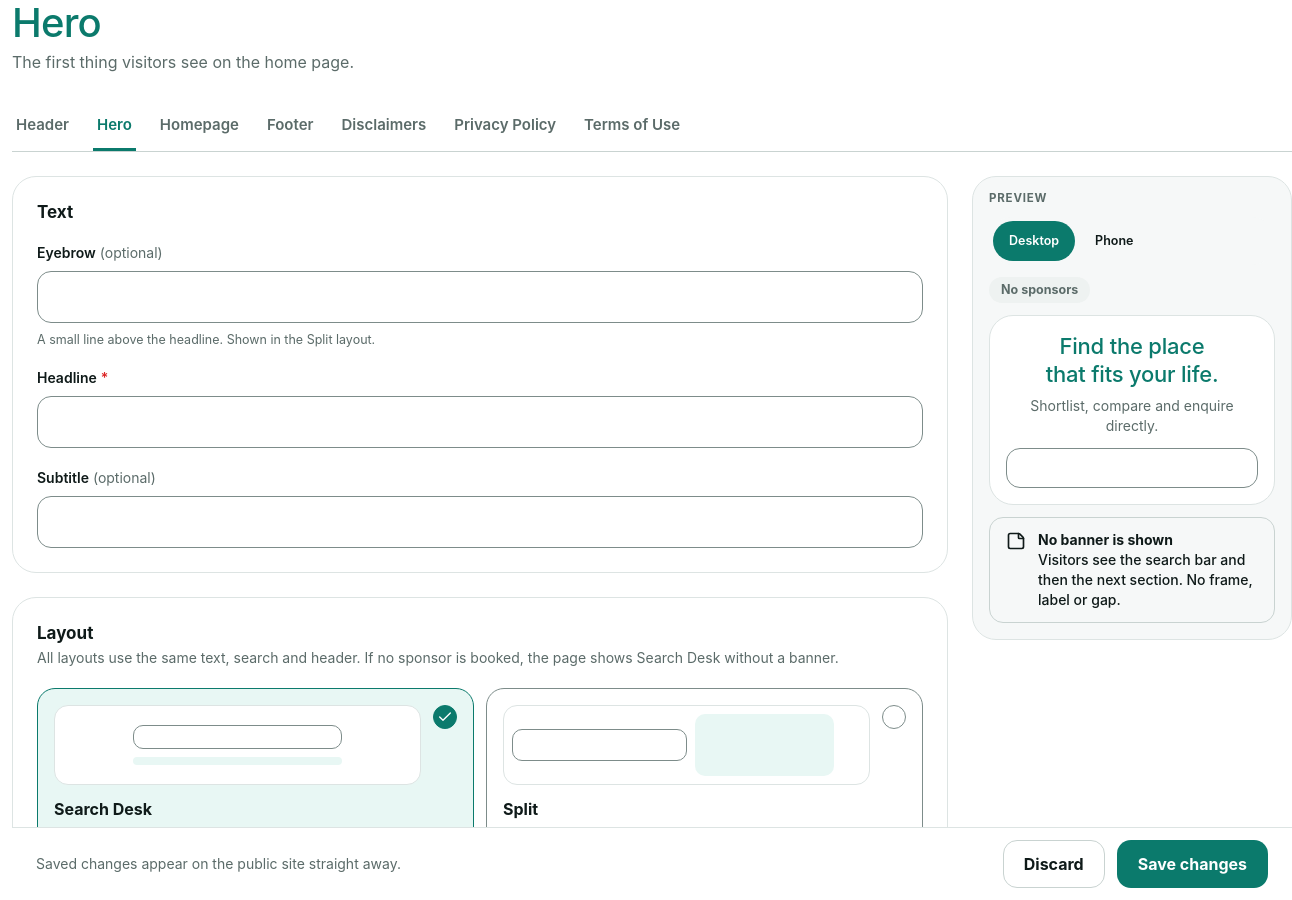
Test: UT-hero-page: the Hero page (S7-T10) › marks a missing headline on its box and says so in the alert
Click the button "Save changes" at coordinates (1192, 864), box [1117,840,1268,888]
(page scrolled)
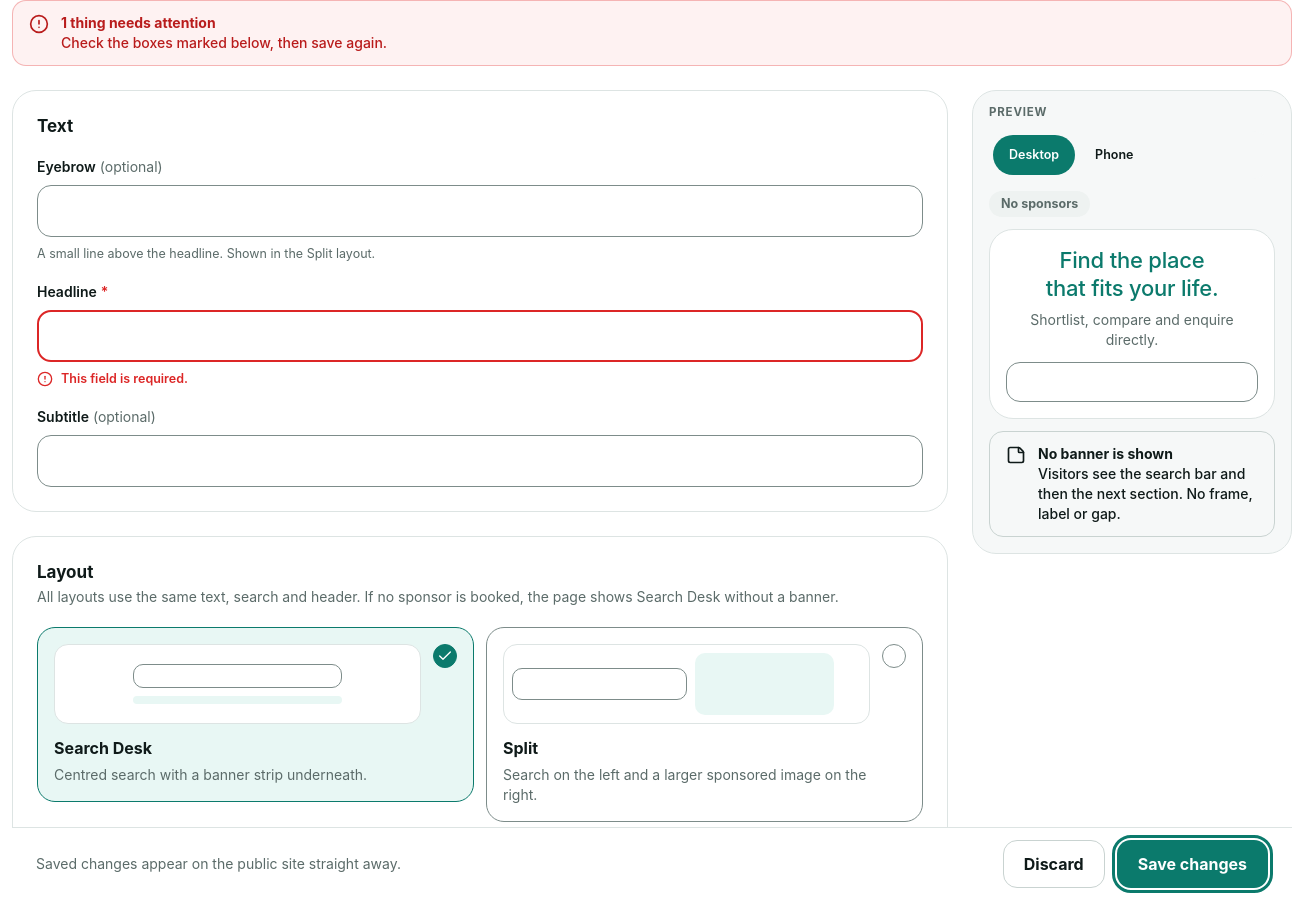
Check: the message "1 thing needs attention Check the boxes marked below, then save again." is shown, box [12,0,1291,66]
Check: the text "This field is required." is shown, box [37,371,188,387]
